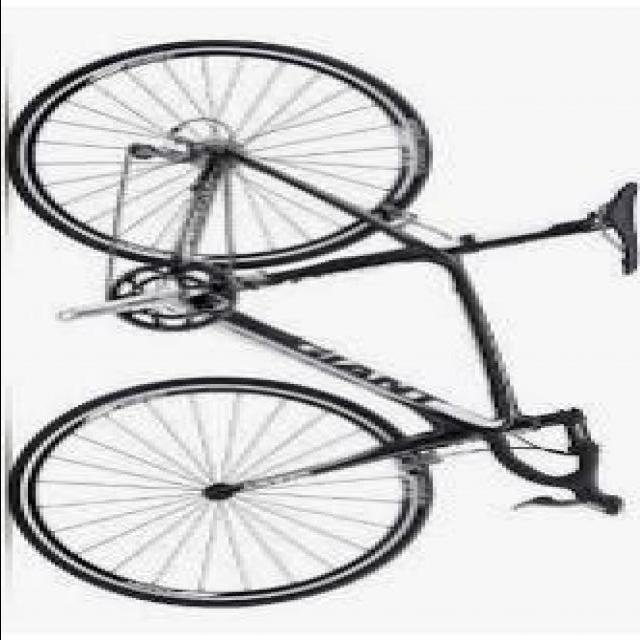bicycle: (31, 58, 629, 612)
